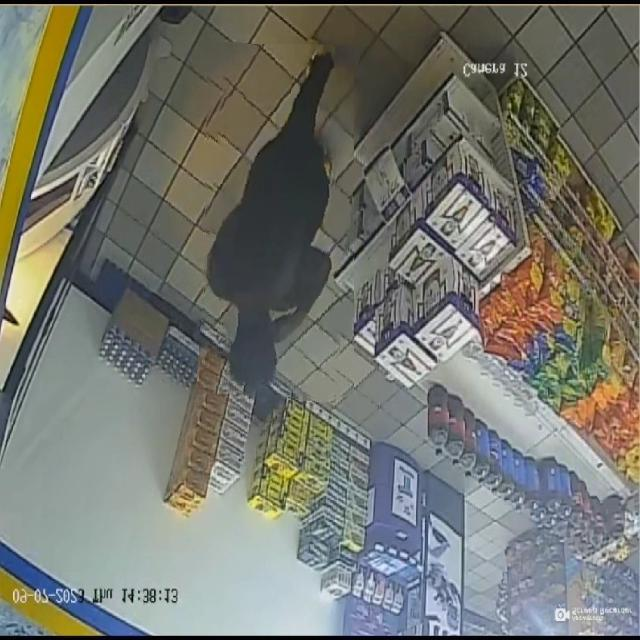Normal: (202, 44, 354, 401)
